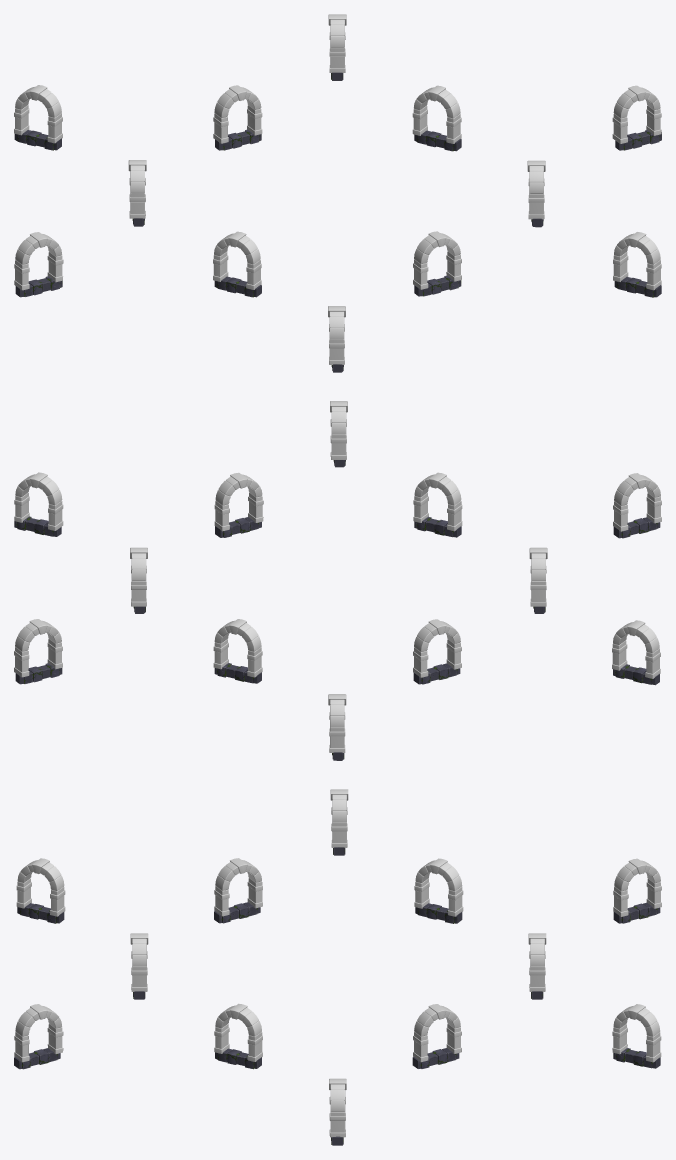
File: Archs.fbx
3 views of the same model, one above another, from view 1: azimuth 30°, elevation 25°; view 2: azimuth 150°, elevation 25°; view 3: azimuth 270°, elevation 25° (orthographic).
Visible parts, largest first — view 1: arch_001.011, arch_001.016, arch_001.001, arch_001.015, arch_001.010, arch_001.031, arch_001.013, arch_001.009, arch_001.029, arch_001.012, arch_001.014, arch_001.030 (+8 smaller); view 2: arch_001.015, arch_001.016, arch_001.012, arch_001.029, arch_001.010, arch_001.030, arch_001.009, arch_001.014, arch_001.001, arch_001.031, arch_001.011, arch_001.013 (+8 smaller); view 3: arch_001.001, arch_001.012, arch_001.014, arch_001.031, arch_001.029, arch_001.030, arch_001.011, arch_001.013, arch_001.015, arch_001.010, arch_001.016, arch_001.009 (+8 smaller).
Boxes of the visible parts, x1=… form: arch_001.011: x1=412, y1=85, x2=461, y2=143; arch_001.016: x1=14, y1=232, x2=63, y2=290; arch_001.001: x1=213, y1=231, x2=261, y2=289; arch_001.015: x1=612, y1=85, x2=661, y2=143; arch_001.010: x1=213, y1=85, x2=262, y2=143; arch_001.031: x1=613, y1=232, x2=661, y2=290; arch_001.013: x1=14, y1=85, x2=62, y2=143; arch_001.009: x1=413, y1=231, x2=461, y2=289; arch_001.029: x1=527, y1=160, x2=545, y2=219; arch_001.012: x1=128, y1=160, x2=146, y2=218; arch_001.014: x1=328, y1=14, x2=346, y2=72; arch_001.030: x1=328, y1=306, x2=345, y2=364; arch_001.015: x1=14, y1=472, x2=63, y2=530; arch_001.016: x1=612, y1=620, x2=660, y2=678; arch_001.012: x1=413, y1=619, x2=461, y2=677; arch_001.029: x1=214, y1=472, x2=263, y2=531; arch_001.010: x1=213, y1=619, x2=262, y2=677; arch_001.030: x1=613, y1=473, x2=661, y2=531; arch_001.009: x1=413, y1=472, x2=462, y2=531; arch_001.014: x1=14, y1=619, x2=62, y2=677; arch_001.001: x1=529, y1=547, x2=547, y2=606; arch_001.031: x1=330, y1=401, x2=347, y2=459; arch_001.011: x1=130, y1=547, x2=147, y2=606; arch_001.013: x1=328, y1=694, x2=346, y2=752; arch_001.001: x1=214, y1=858, x2=262, y2=916; arch_001.012: x1=414, y1=858, x2=463, y2=916; arch_001.014: x1=612, y1=1004, x2=661, y2=1062; arch_001.031: x1=14, y1=1004, x2=63, y2=1062; arch_001.029: x1=214, y1=1003, x2=262, y2=1061; arch_001.030: x1=16, y1=858, x2=65, y2=916; arch_001.011: x1=413, y1=1004, x2=461, y2=1062; arch_001.013: x1=613, y1=858, x2=661, y2=916; arch_001.015: x1=329, y1=1078, x2=346, y2=1137; arch_001.010: x1=528, y1=933, x2=546, y2=991; arch_001.016: x1=330, y1=789, x2=348, y2=847; arch_001.009: x1=130, y1=933, x2=148, y2=991.
Bounding box in the file's own units: 79.03 × 6.68 × 69.38.
2 materials, 1 textured.
